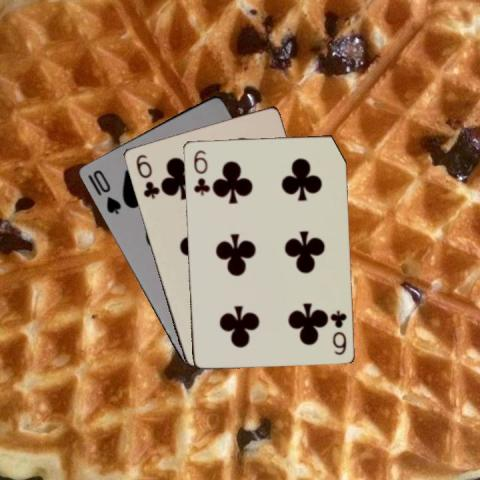10s: (89, 167, 123, 215)
6c: (133, 151, 160, 200), (327, 307, 348, 356), (190, 146, 209, 196)
